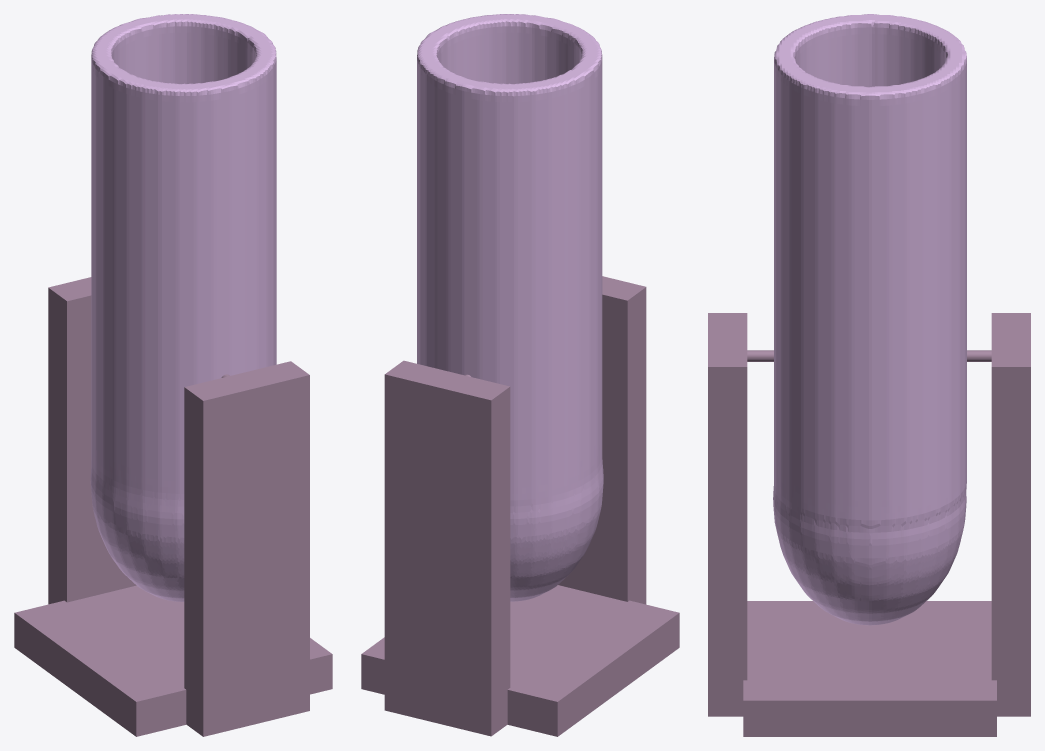
The model's file is FireworkLauncher2.fbx.
3 renders of one model, left to right at view 1: azimuth 30°, elevation 25°; view 2: azimuth 150°, elevation 25°; view 3: azimuth 270°, elevation 25°, orthographic. The views are drawn at different scales.
Visible parts, largest first — view 1: Cylinder, Cylinder.002; view 2: Cylinder, Cylinder.002; view 3: Cylinder, Cylinder.002.
Boxes of the visible parts, x1,y1,x2,y2 form: Cylinder: (90, 14, 276, 601); Cylinder.002: (14, 277, 332, 736); Cylinder: (417, 14, 603, 601); Cylinder.002: (361, 276, 679, 736); Cylinder: (773, 14, 966, 625); Cylinder.002: (708, 313, 1030, 736).
Size of the model in its own units: 138 by 412 by 188.
